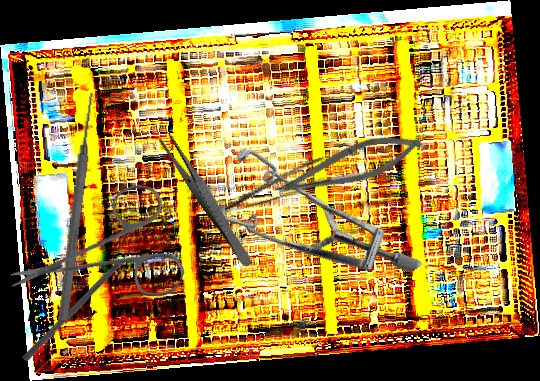Dressing Forceps: (156, 130, 258, 269), (199, 155, 334, 222)
Iris Scissors: (5, 148, 214, 357)
Micro Scissor: (269, 120, 428, 214)
Pusher: (21, 239, 145, 364), (56, 91, 99, 322)
Speculum: (188, 101, 423, 348)
